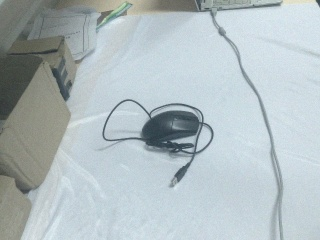box: (1, 55, 70, 192), (8, 34, 78, 100), (1, 174, 34, 240)
mouse: (141, 112, 200, 144)
